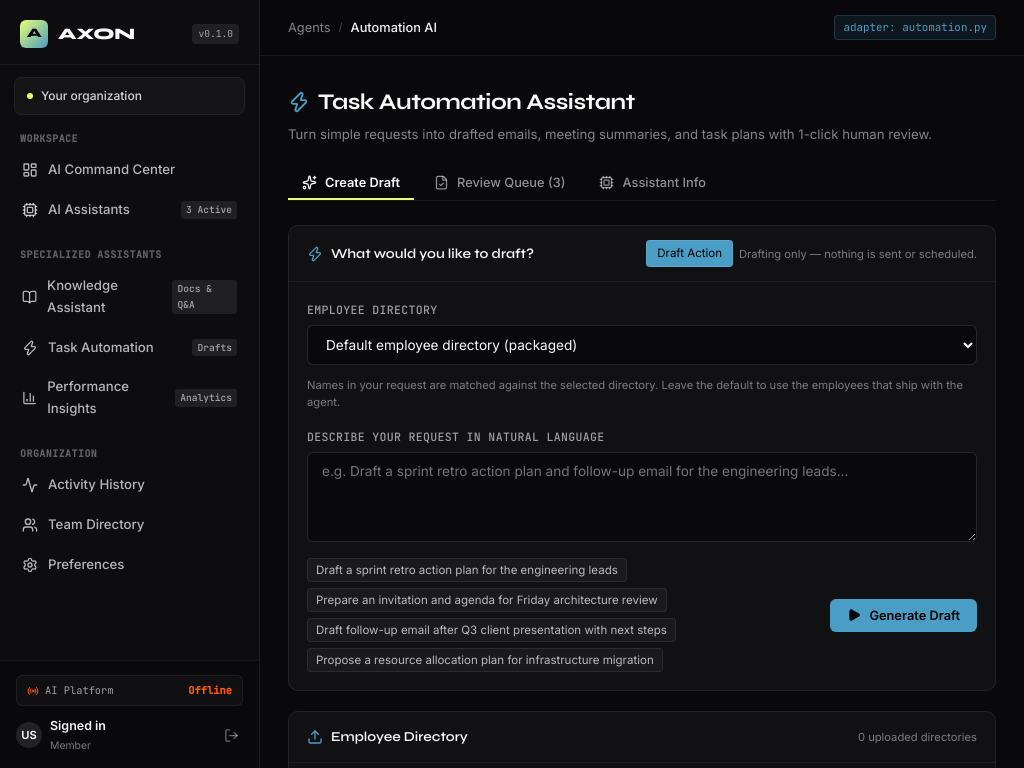
Test case: AutomationAIPage directory selection › does not present a failed request as a completed one
Type "Draft a standup with Navneet" into the text box at coordinates (642, 497), box [307,452,977,542]
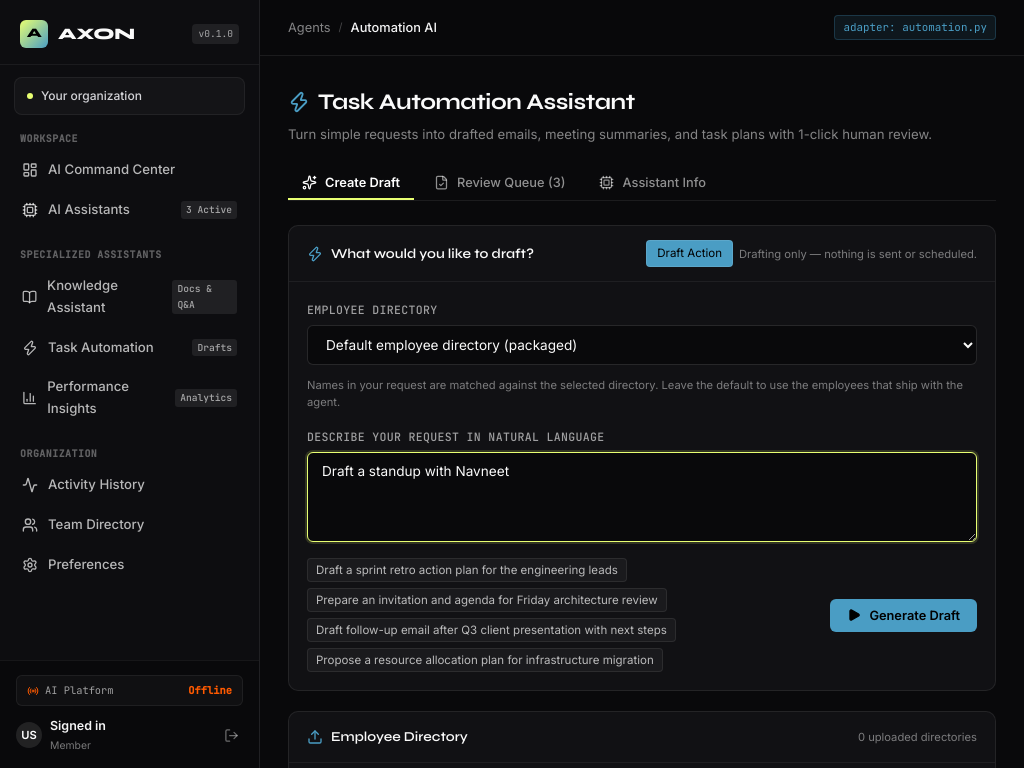
Click the button "Generate Draft" at coordinates (904, 615), box [830,598,977,632]
(page scrolled)
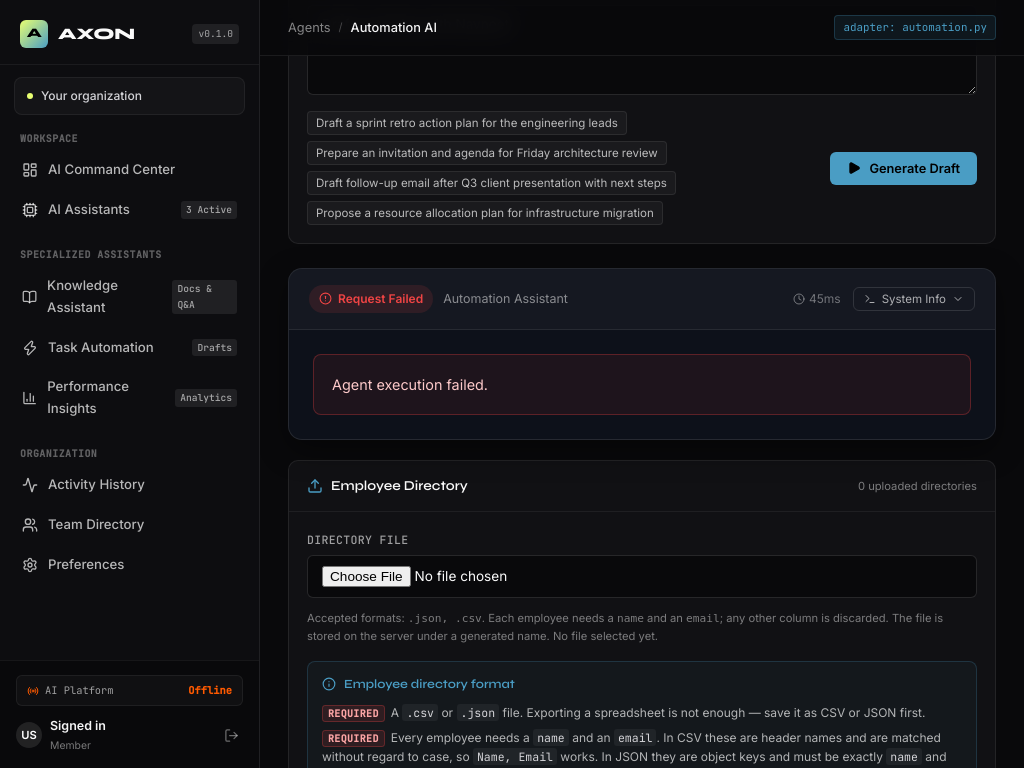
Now the message shows "Agent execution failed", box [332,376,488,393]
